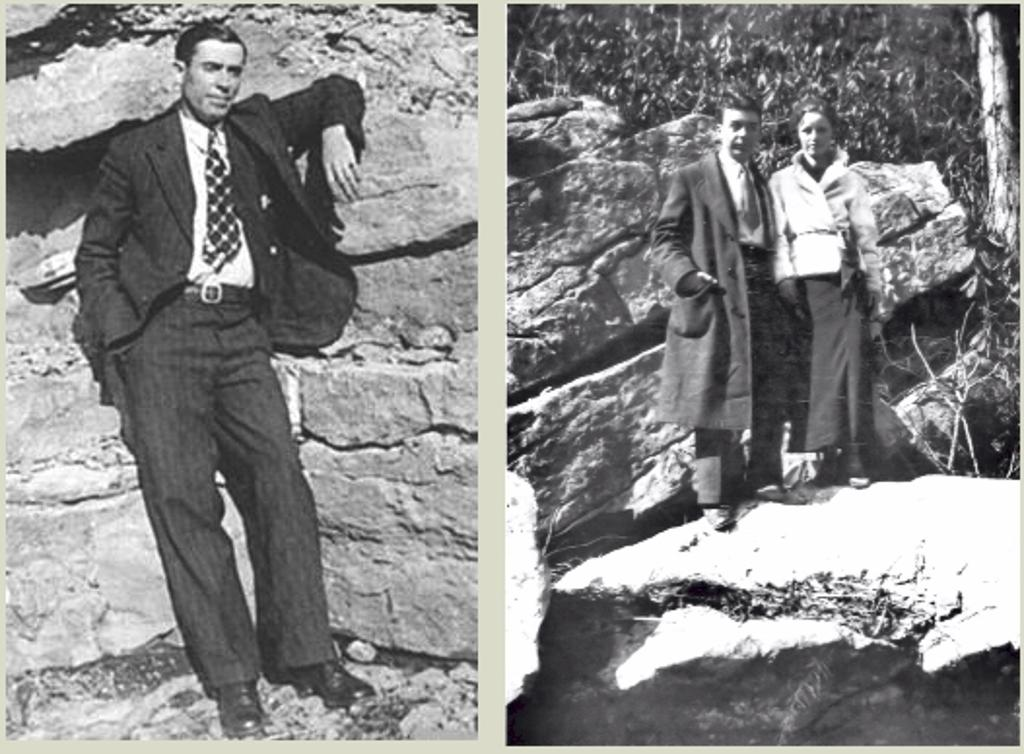face: (187, 42, 242, 117), (723, 109, 758, 157), (798, 114, 830, 156)
